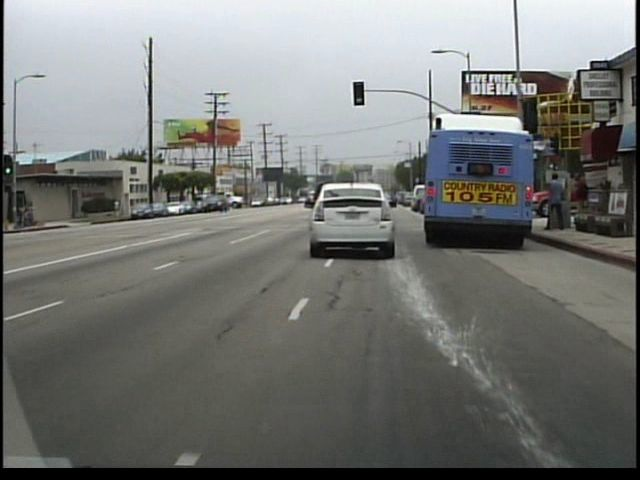person: (541, 170, 566, 235), (111, 195, 123, 218)
